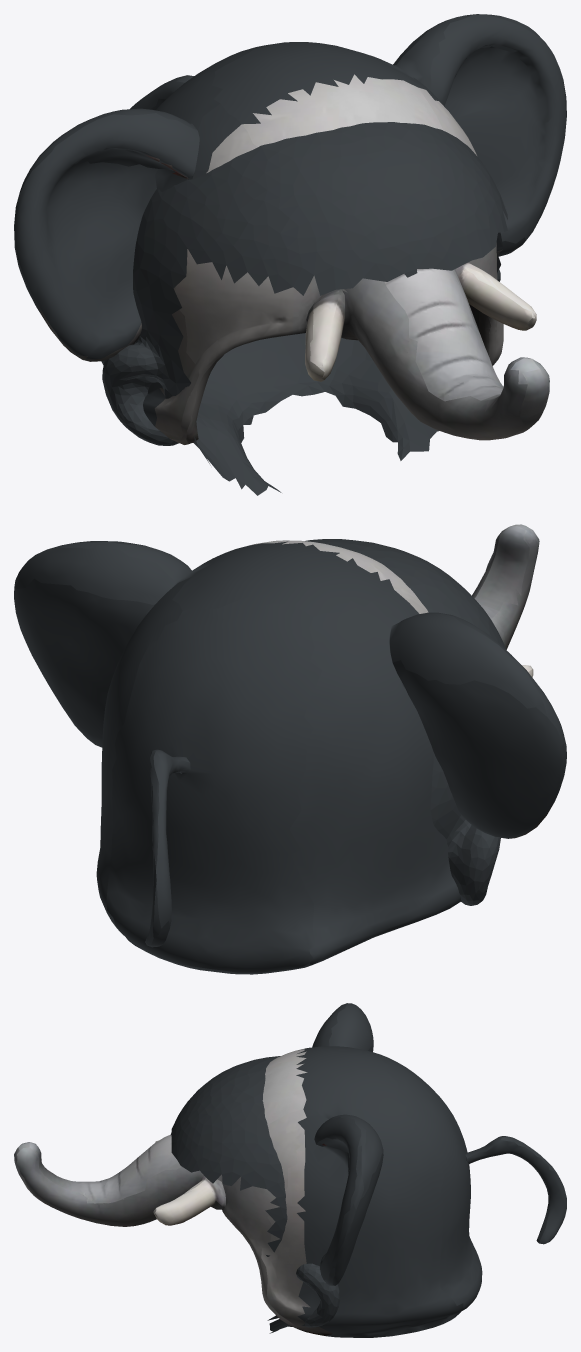
Rendered from elephant.glb.
3 renders of one model, top to bottom at view 1: azimuth 30°, elevation 25°; view 2: azimuth 150°, elevation 25°; view 3: azimuth 270°, elevation 25°, orthographic. The views are drawn at different scales.
Visible parts, largest first — view 1: geometry_0, HoodAnatomicalLining; view 2: geometry_0, HoodAnatomicalLining; view 3: geometry_0, HoodAnatomicalLining.
Part boxes in pixels (left/top/right/bottom): geometry_0: left=14, top=14, right=566, bottom=444; HoodAnatomicalLining: left=102, top=122, right=507, bottom=495; geometry_0: left=14, top=524, right=566, bottom=974; HoodAnatomicalLining: left=305, top=539, right=506, bottom=905; geometry_0: left=14, top=1003, right=566, bottom=1337; HoodAnatomicalLining: left=170, top=1056, right=340, bottom=1333.
Bounding box in the file's own units: 0.6689 × 0.4349 × 0.8562.
Materials: 2 (1 with a texture image).
